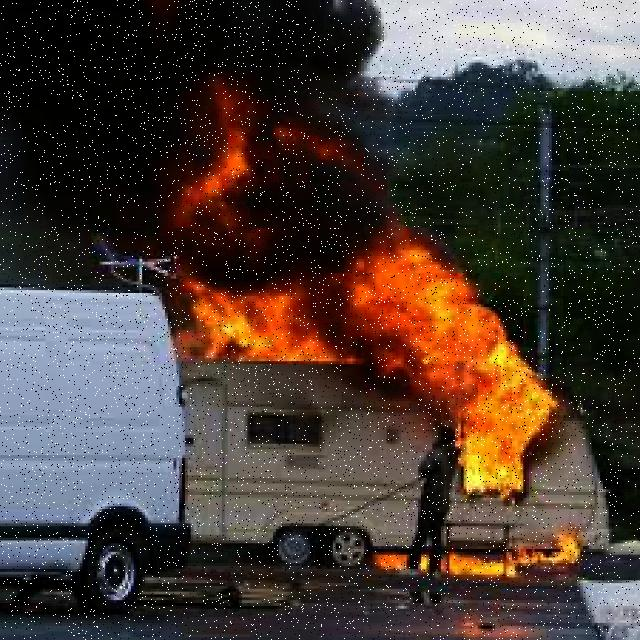fire: (414, 273, 556, 492), (372, 549, 590, 581)
smoke: (50, 12, 328, 245)
